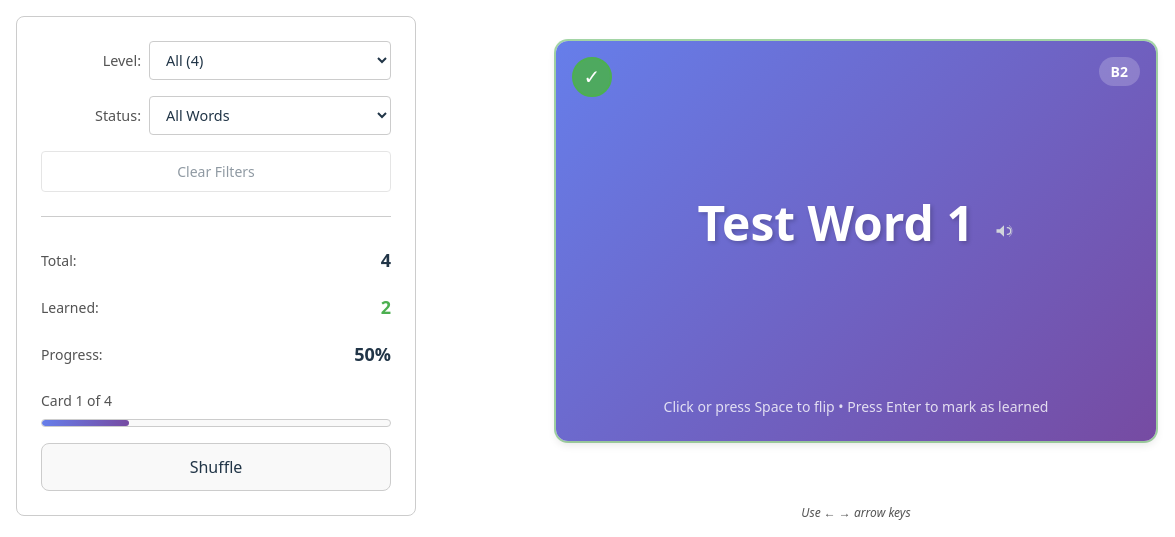
Test case: VocabularyPractice Filtering › combines level and status filters
The image size is (1175, 537).
# Filter by C1 level
Select "C1 (2)" in the dropdown labelled "Level:" at (270, 60), box [149, 41, 391, 80]
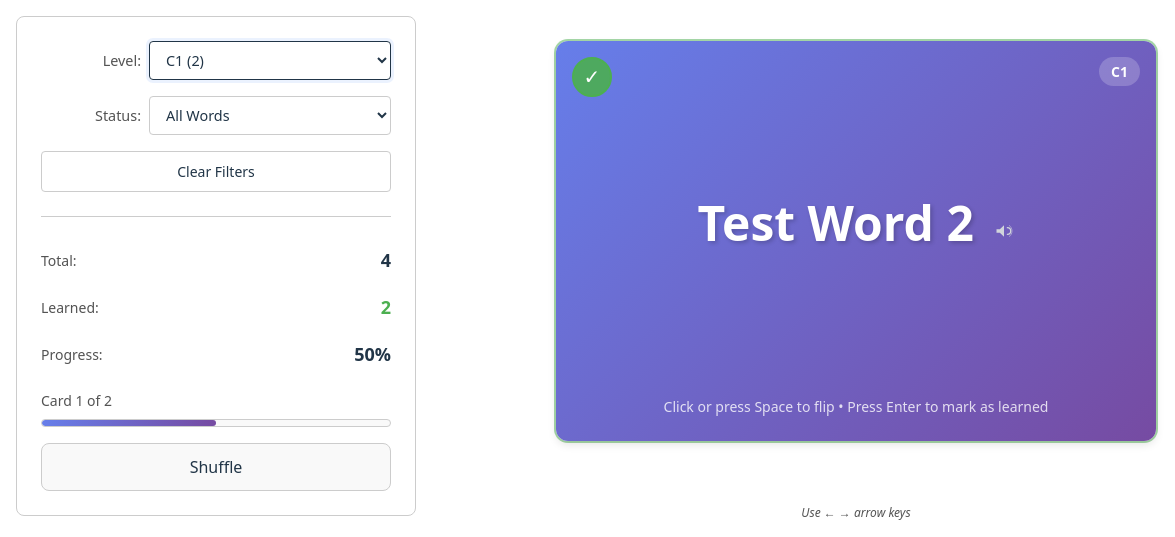
# Filter by Learned
Select "Learned (2)" in the dropdown labelled "Status:" at (270, 116), box [149, 96, 391, 135]
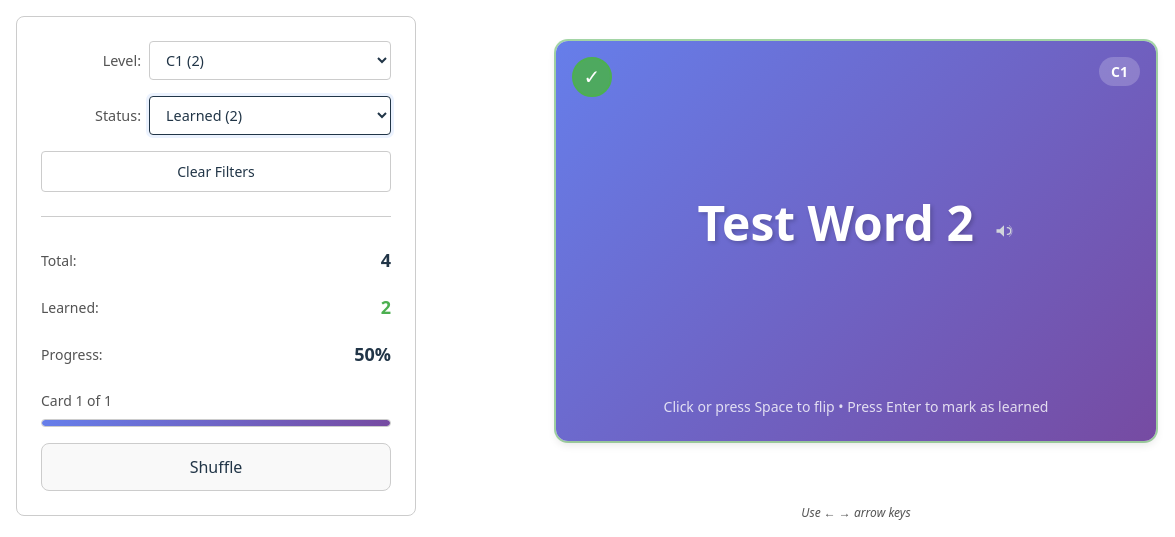
Expected: the text "Card 1 of 1" is shown, [41, 391, 112, 410]
